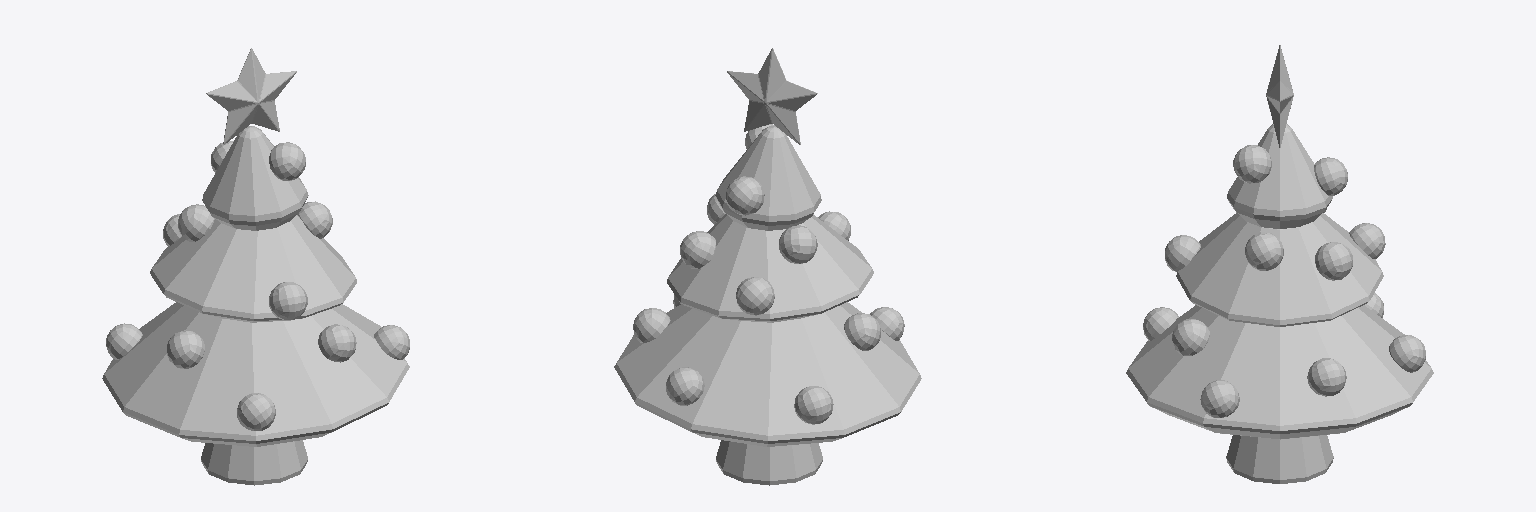
The model's file is tree.obj.
3 renders of one model, left to right at view 1: azimuth 30°, elevation 25°; view 2: azimuth 150°, elevation 25°; view 3: azimuth 270°, elevation 25°, orthographic.
Parts seen in each view (by area): view 1: Tree_Circle, Balls_Roundcube, Star_Star.001; view 2: Tree_Circle, Balls_Roundcube, Star_Star.001; view 3: Tree_Circle, Balls_Roundcube, Star_Star.001.
Boxes of the visible parts, x1,y1,x2,y2 form: Tree_Circle: [102, 126, 409, 485]; Balls_Roundcube: [106, 141, 409, 430]; Star_Star.001: [206, 48, 296, 144]; Tree_Circle: [614, 126, 921, 485]; Balls_Roundcube: [633, 124, 904, 424]; Star_Star.001: [727, 48, 817, 144]; Tree_Circle: [1126, 124, 1433, 483]; Balls_Roundcube: [1143, 145, 1425, 417]; Star_Star.001: [1266, 45, 1293, 147].
Bounding box in the file's own units: 1.11 × 1.66 × 1.11.